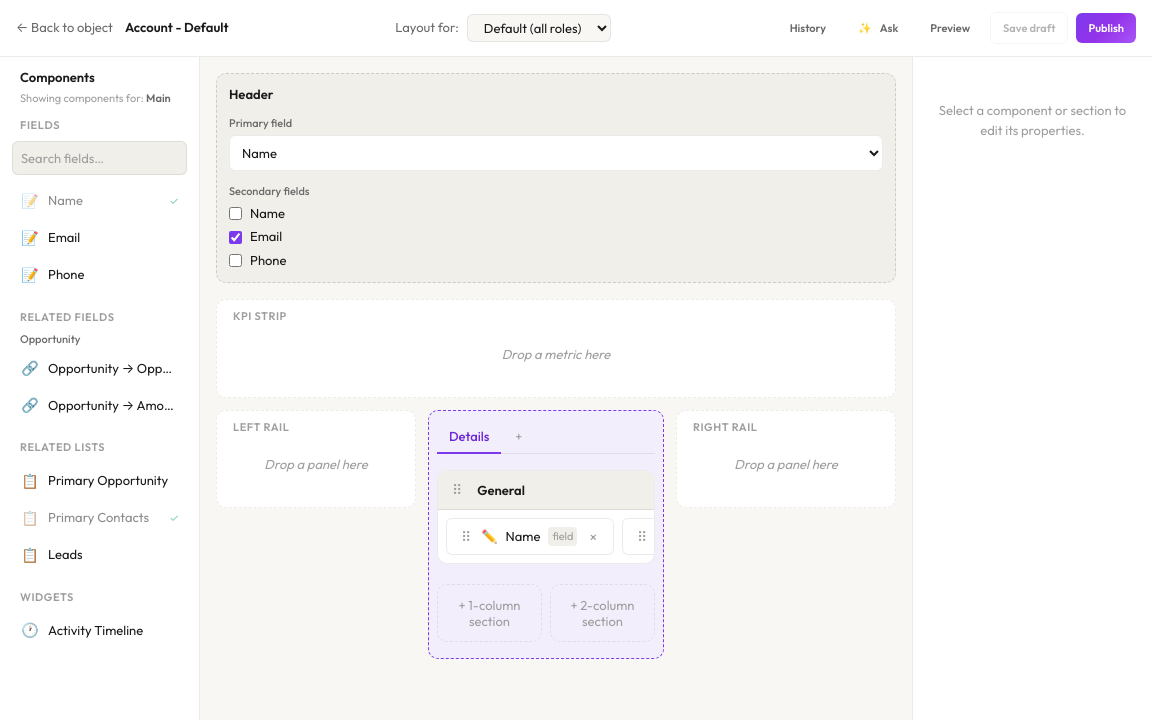
Test: PageBuilderPage › shows component properties when a component is clicked
The width and height of the screenshot is (1152, 720).
Click the element with test id "canvas-component-comp-1" at {"x": 530, "y": 537}, box [446,518,614,555]
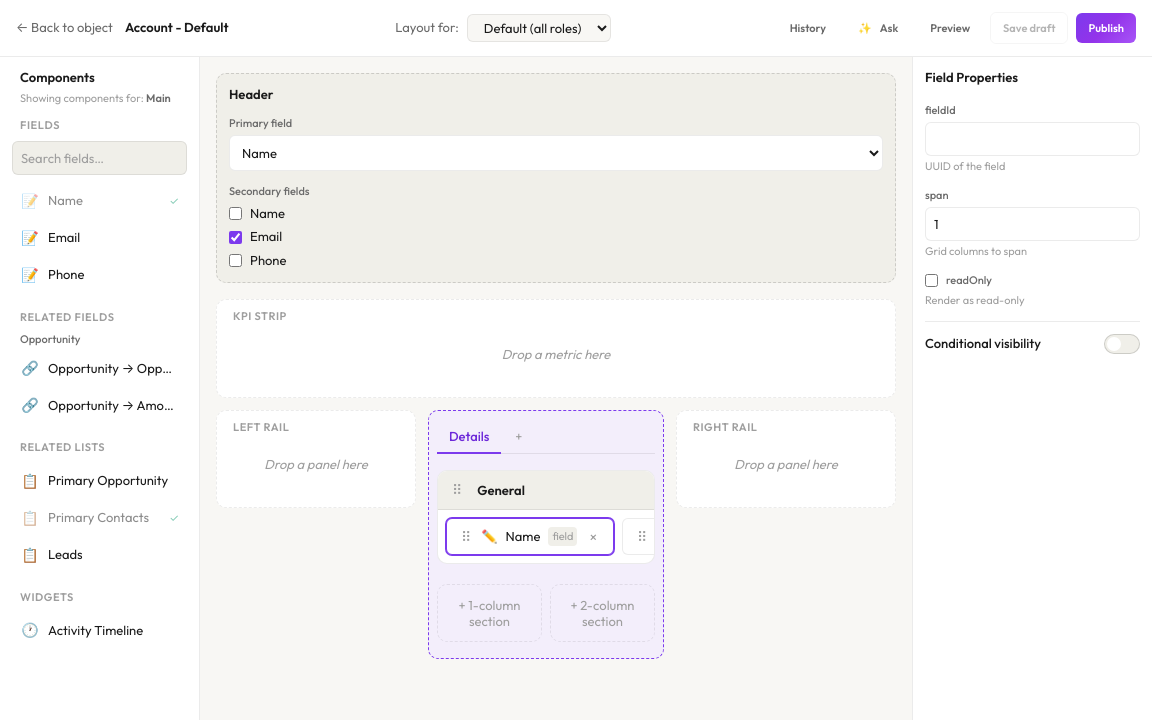
Expected: the heading "Field Properties" is shown, [925,69,1018,85]
